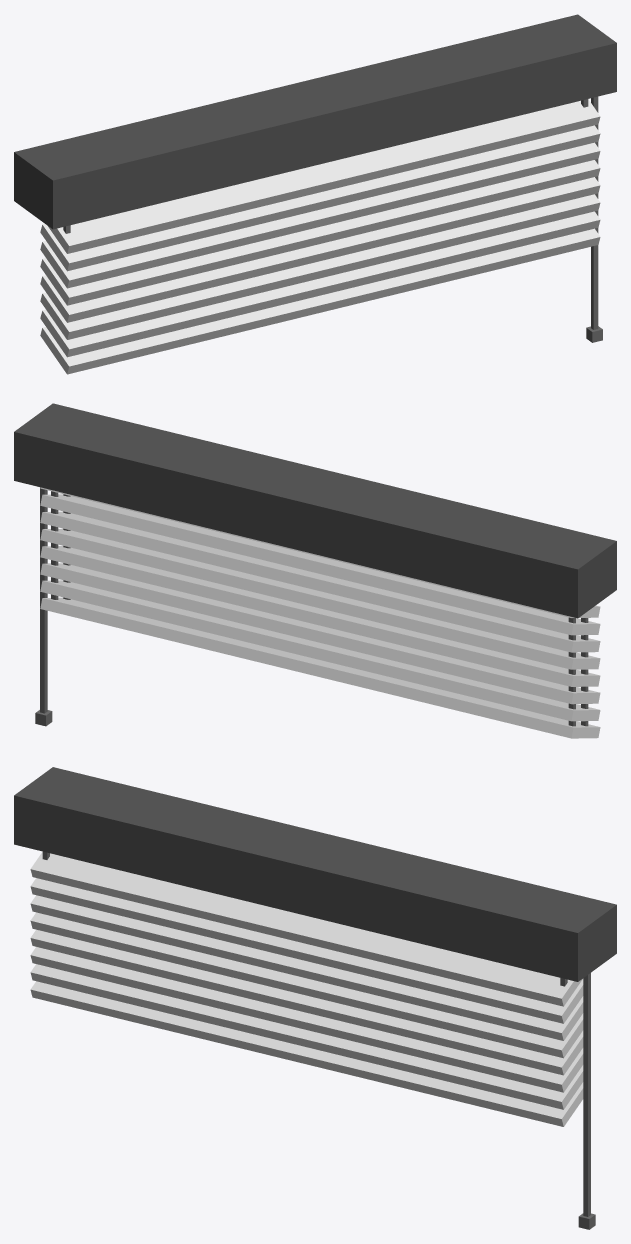
The model's file is Curtains13_C1.fbx.
The picture shows the model from 3 angles, top to bottom: view 1: azimuth 30°, elevation 25°; view 2: azimuth 150°, elevation 25°; view 3: azimuth 330°, elevation 25°; orthographic projection.
Visible parts, largest first — view 1: Curtains13_C1; view 2: Curtains13_C1; view 3: Curtains13_C1.
Part boxes in pixels (x1,y1,x2,y2): Curtains13_C1: (14, 14, 616, 374); Curtains13_C1: (14, 403, 616, 738); Curtains13_C1: (14, 767, 616, 1229).
Size of the model in its own units: 106 by 54.95 by 12.67.
